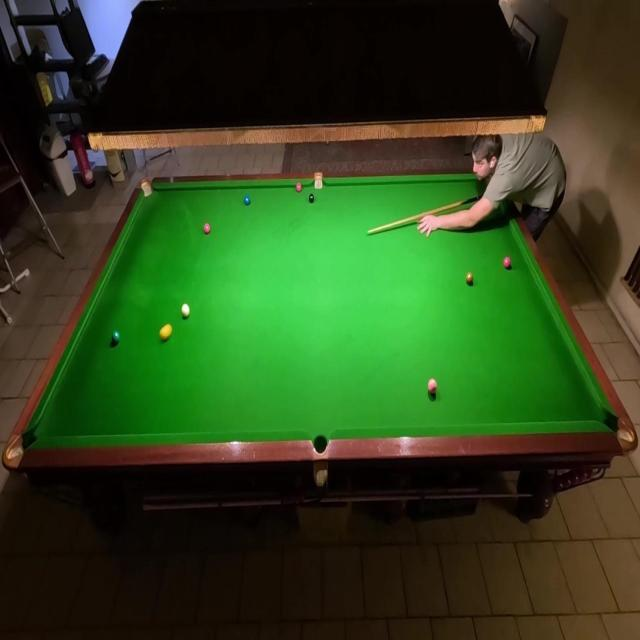Ball: (159, 324, 173, 341), (180, 302, 190, 318), (428, 378, 438, 394), (502, 256, 512, 270), (111, 330, 121, 344), (466, 272, 474, 286), (203, 222, 211, 235), (244, 195, 252, 207), (296, 182, 302, 192), (308, 194, 314, 204)
